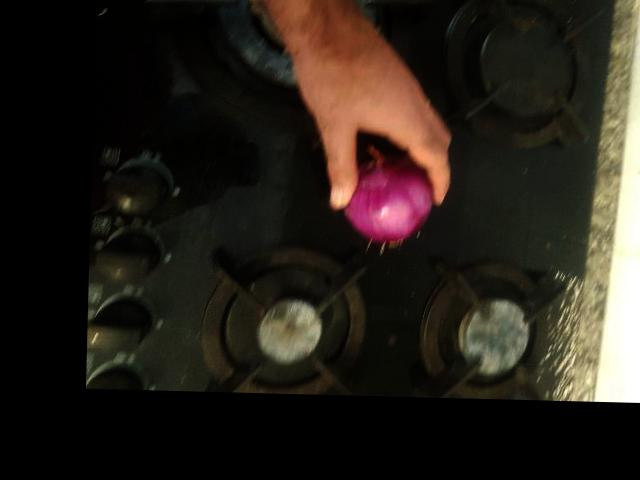onion: (343, 164, 429, 232)
